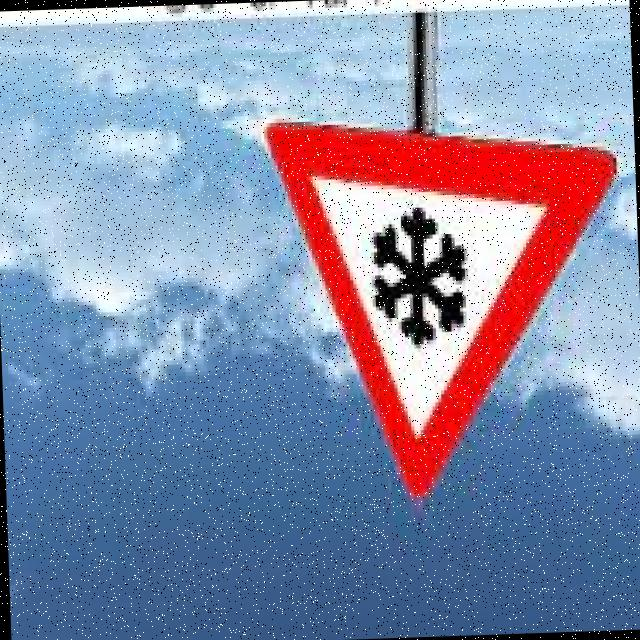snow_warning: (260, 98, 630, 524)
